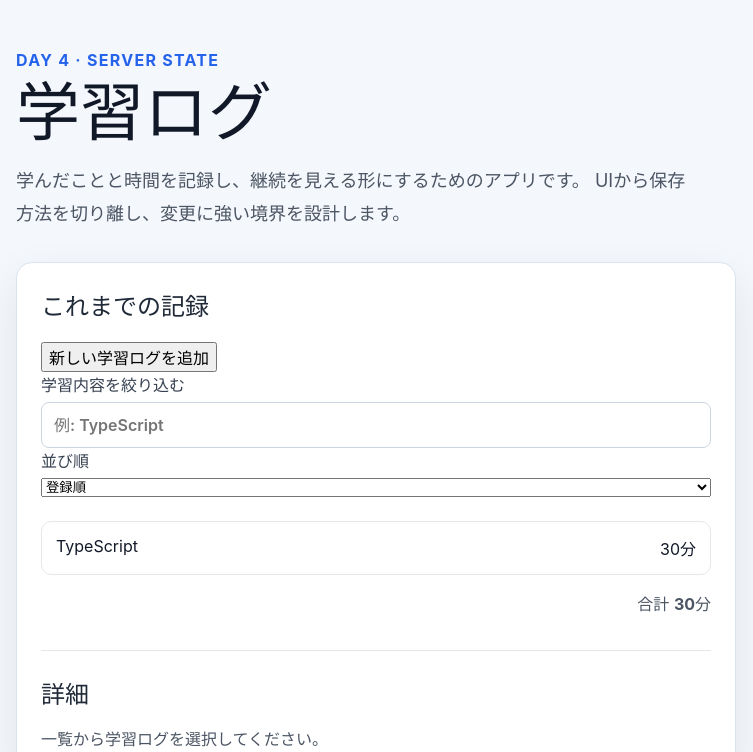
Test: StudyLogPage › 詳細から学習ログを編集して再読み込みする
Click the button "TypeScript 30分" at (97, 546), box x1=41 y1=521 x2=711 y2=575
(page scrolled)
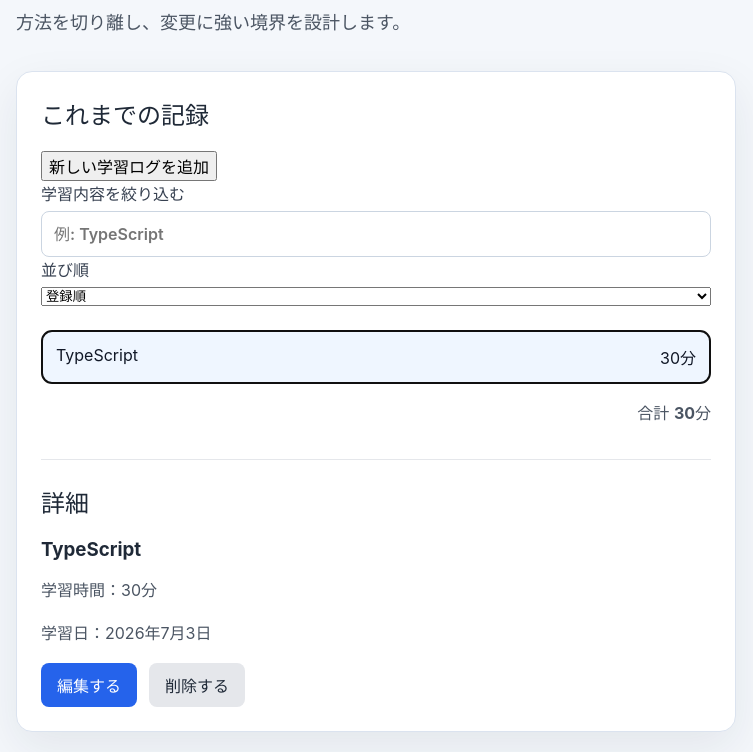
Click the button "編集する" at (89, 685), box x1=41 y1=663 x2=137 y2=707
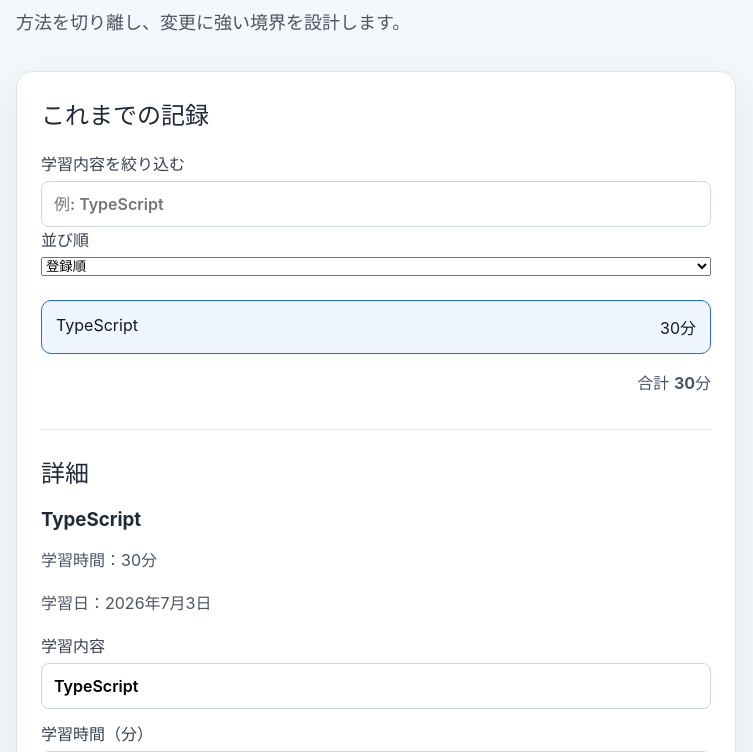
Replace the text in the field labelled "学習内容" with "型モデリング" at (376, 686), box x1=41 y1=663 x2=711 y2=709
(page scrolled)
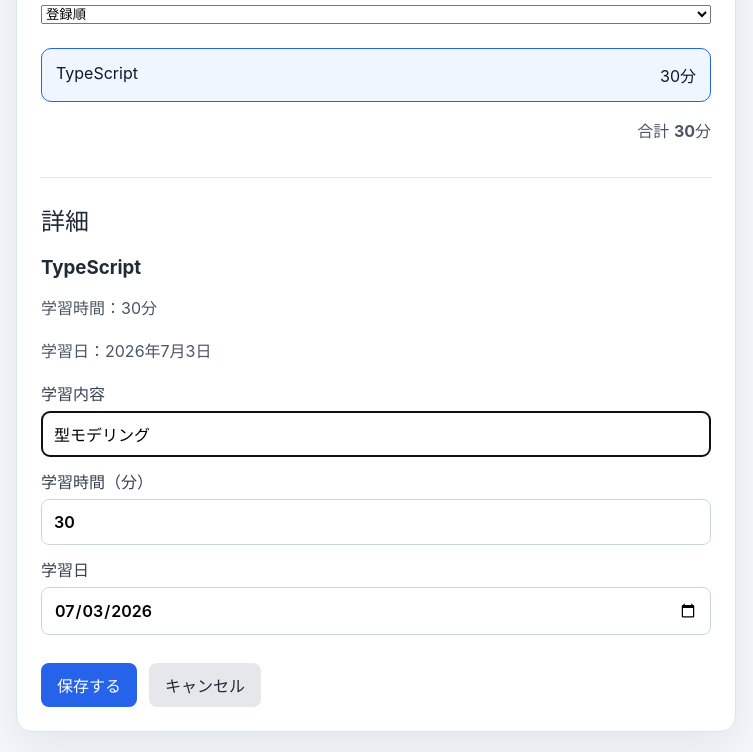
Replace the text in the number field labelled "学習時間（分）" with "90" at (376, 522), box x1=41 y1=499 x2=711 y2=545
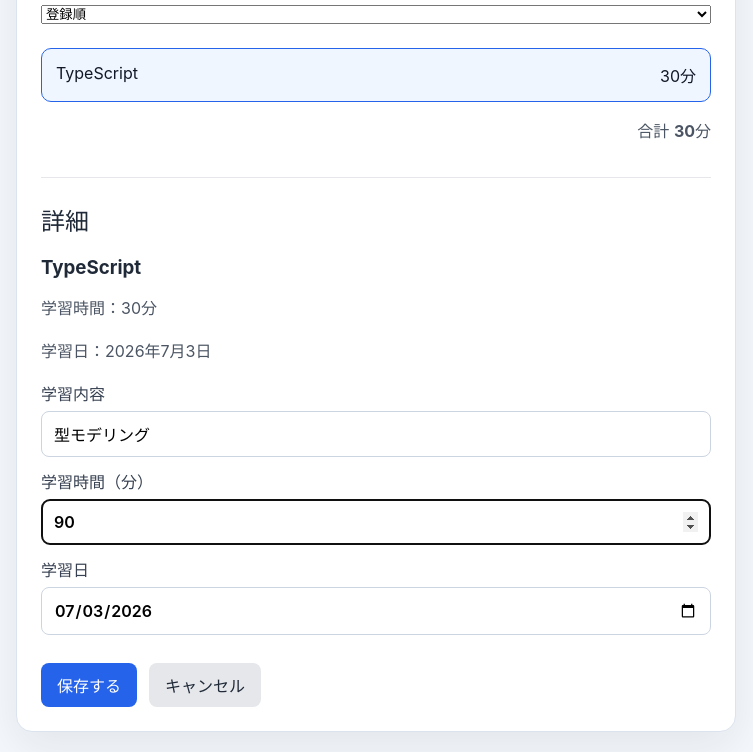
Click the button "保存する" at (89, 685), box x1=41 y1=663 x2=137 y2=707
(page scrolled)
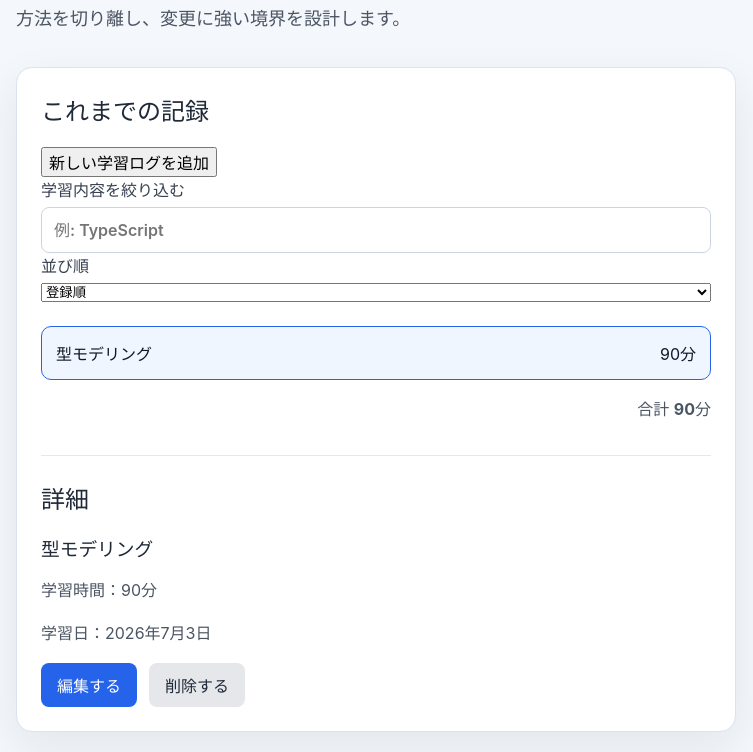
Check: the button "型モデリング 90分" is shown, box x1=41 y1=326 x2=711 y2=380
